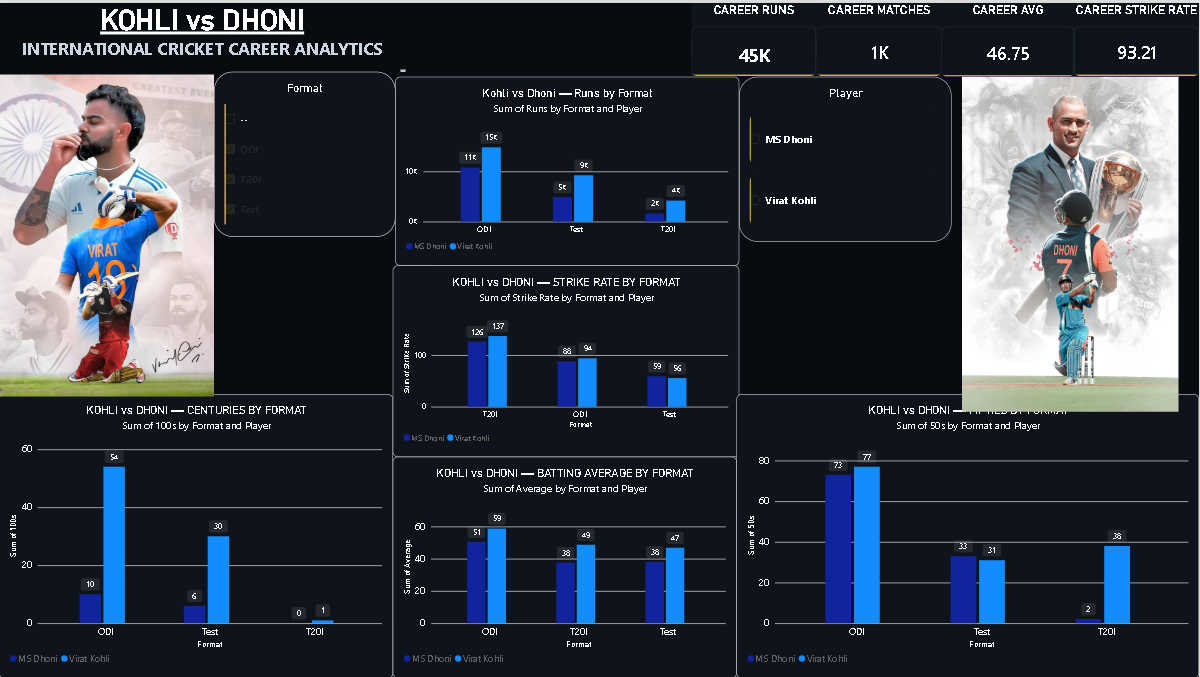

What the dashboard file says about the page in this screenshot:
{"tool":"powerbi","page":{"name":"Page 1","canvas":[1920,1080],"ordinal":0},"visuals":[{"type":"textbox","title":"KOHLI vs DHONI","box":[0,0,650,110],"z":0},{"type":"cardVisual","title":"CAREER RUNS","fields":{"Data":["Sum(Career Stats.Runs)"]},"box":[1108,0,199.7,117.3],"z":1000},{"type":"cardVisual","title":"CAREER MATCHES","fields":{"Data":["Sum(Career Stats.Matches)"]},"box":[1308,0,200,117.5],"z":2000},{"type":"cardVisual","title":"CAREER AVG","fields":{"Data":["Avg(Career Stats.Average)"]},"box":[1508,0,212,118],"z":3000},{"type":"cardVisual","title":"CAREER STRIKE RATE","fields":{"Data":["Avg(Career Stats.Strike Rate)"]},"box":[1720,0,200,117.5],"z":4000},{"type":"listSlicer","title":"Player","fields":{"Values":["Career Stats.Player"]},"box":[1184,118,340,264],"z":5000},{"type":"listSlicer","fields":{"Values":["Career Stats.Format"]},"box":[344,110,290,264],"z":6000},{"type":"clusteredColumnChart","title":"Kohli vs Dhoni — Runs by Format","fields":{"Category":["Career Stats.Format"],"Series":["Career Stats.Player"],"Y":["Sum(Career Stats.Runs)"]},"box":[634,118,550,302],"z":7000},{"type":"clusteredColumnChart","title":"KOHLI vs DHONI — BATTING AVERAGE BY FORMAT","fields":{"Category":["Career Stats.Format"],"Series":["Career Stats.Player"],"Y":["Sum(Career Stats.Average)"]},"box":[630,726,550,354],"z":8000},{"type":"clusteredColumnChart","title":"KOHLI vs DHONI — STRIKE RATE BY FORMAT","fields":{"Category":["Career Stats.Format"],"Series":["Career Stats.Player"],"Y":["Sum(Career Stats.Strike Rate)"]},"box":[630,420,554,306],"z":9000},{"type":"clusteredColumnChart","title":"KOHLI vs DHONI — CENTURIES BY FORMAT","fields":{"Category":["Career Stats.Format"],"Series":["Career Stats.Player"],"Y":["Sum(Career Stats.100s)"]},"box":[0,626,630,454],"z":10000},{"type":"clusteredColumnChart","title":"KOHLI vs DHONI — FIFTIES BY FORMAT","fields":{"Category":["Career Stats.Format"],"Series":["Career Stats.Player"],"Y":["Sum(Career Stats.50s)"]},"box":[1180,626,740,454],"z":11000},{"type":"image","box":[0,76,344,592],"z":12000},{"type":"image","box":[1508,118,412,536],"z":13000}]}

Visuals, with their boxes in screenshot pixels (x1, y1, x2, y2), scaled from the page's 1920x1080 canvas onto the 1200x677 screenshot:
"KOHLI vs DHONI" textbox: (0, 0, 406, 69)
"CAREER RUNS" cardVisual: (692, 0, 817, 74)
"CAREER MATCHES" cardVisual: (818, 0, 942, 74)
"CAREER AVG" cardVisual: (942, 0, 1075, 74)
"CAREER STRIKE RATE" cardVisual: (1075, 0, 1199, 74)
"Player" listSlicer: (740, 74, 952, 239)
listSlicer - Career Stats.Format: (215, 69, 396, 234)
"Kohli vs Dhoni — Runs by Format" clusteredColumnChart: (396, 74, 740, 263)
"KOHLI vs DHONI — BATTING AVERAGE BY FORMAT" clusteredColumnChart: (394, 455, 738, 676)
"KOHLI vs DHONI — STRIKE RATE BY FORMAT" clusteredColumnChart: (394, 263, 740, 455)
"KOHLI vs DHONI — CENTURIES BY FORMAT" clusteredColumnChart: (0, 392, 394, 676)
"KOHLI vs DHONI — FIFTIES BY FORMAT" clusteredColumnChart: (738, 392, 1199, 676)
image: (0, 48, 215, 419)
image: (942, 74, 1199, 410)
